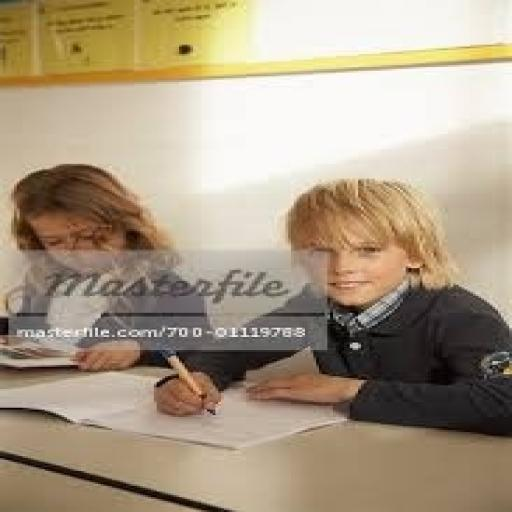sitting: (151, 175, 509, 436), (0, 160, 215, 372)
